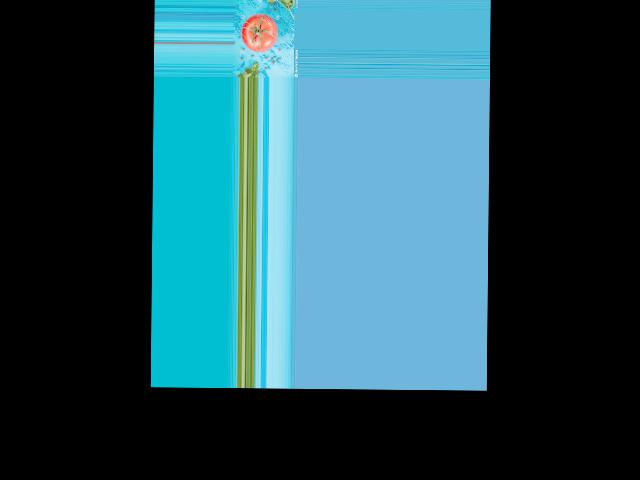tomato: (241, 13, 278, 52)
